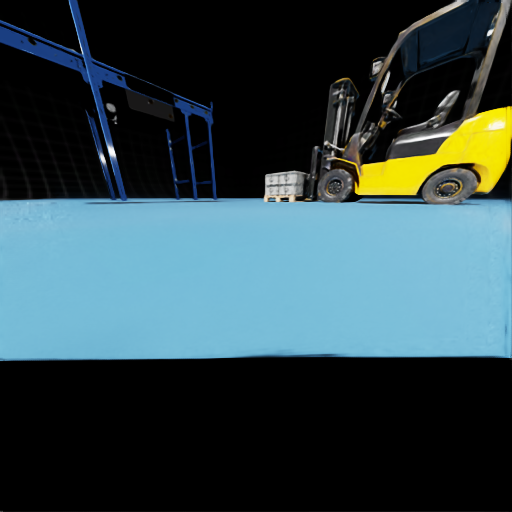transportation_area: (279, 184, 307, 194), (105, 73, 107, 75), (82, 64, 84, 66), (21, 41, 23, 42)
